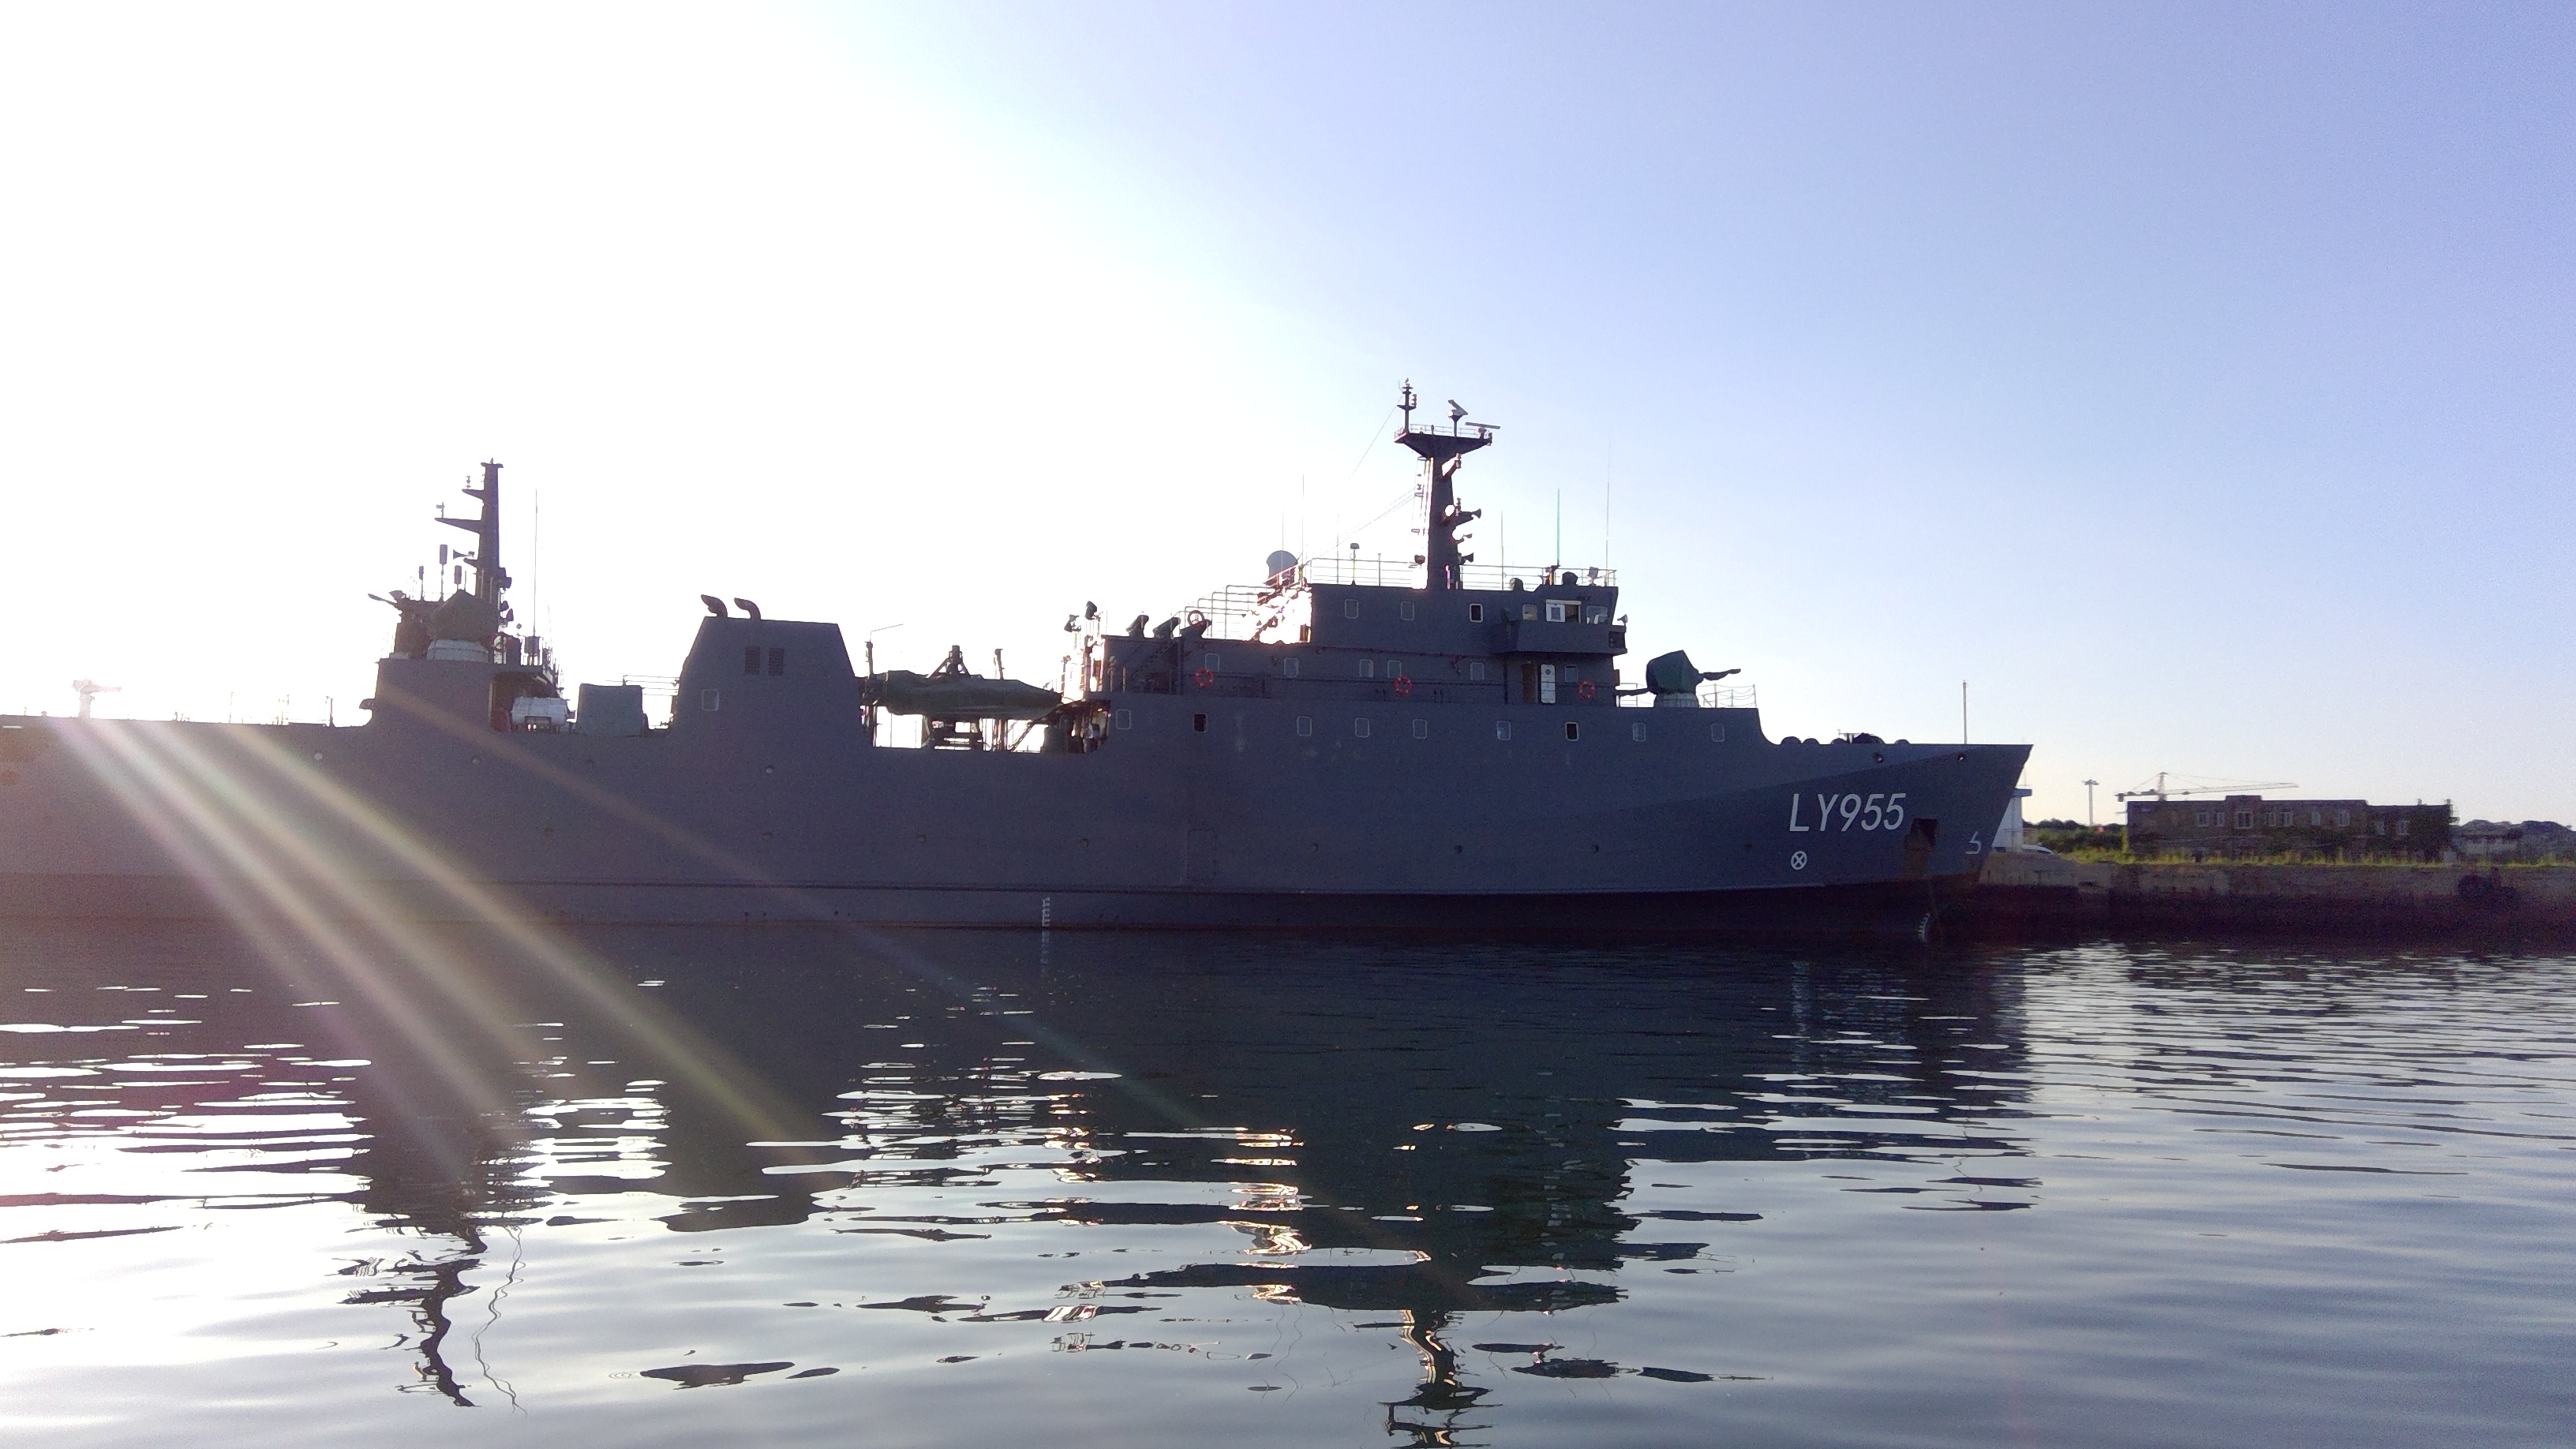ship: (0, 372, 2036, 962)
